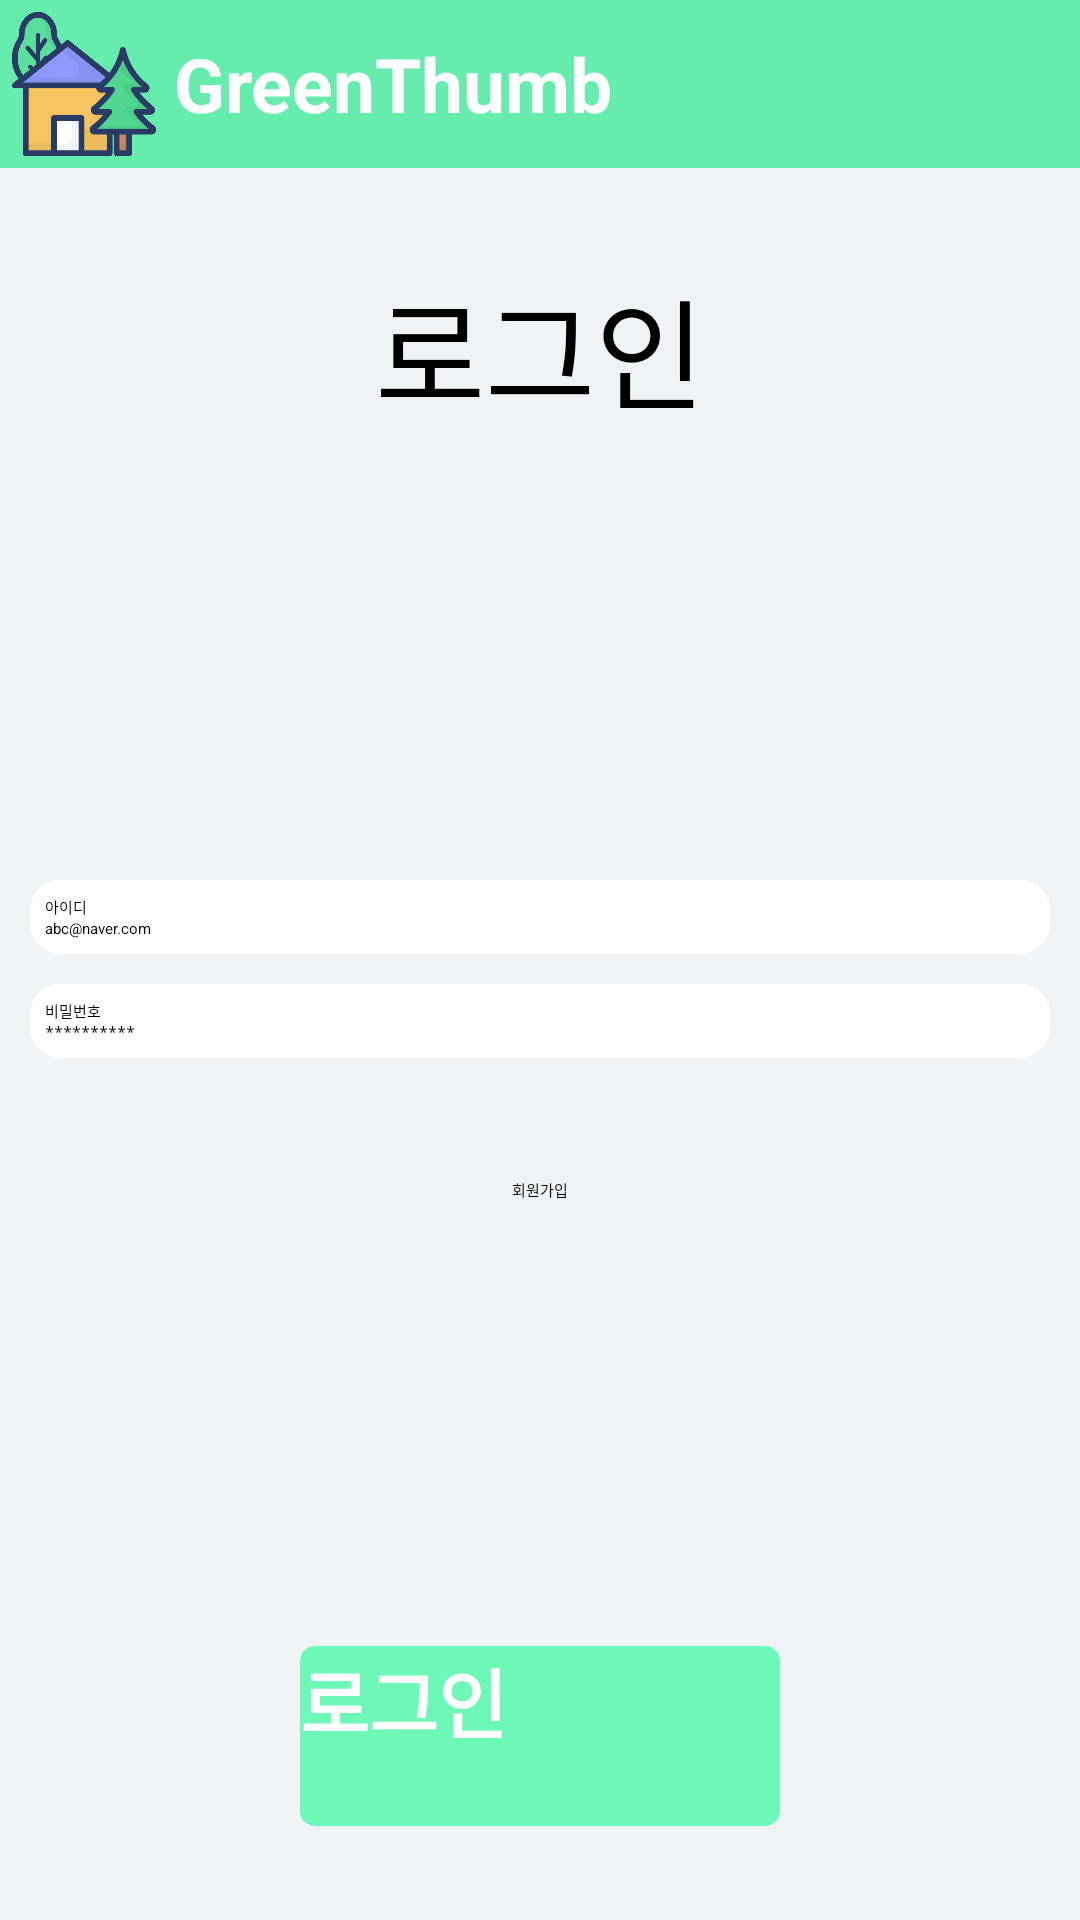

Where icons sit on this 1080px×1920px app screen, as (x1, y1, x2, y2):
home: (12, 12, 156, 156)
